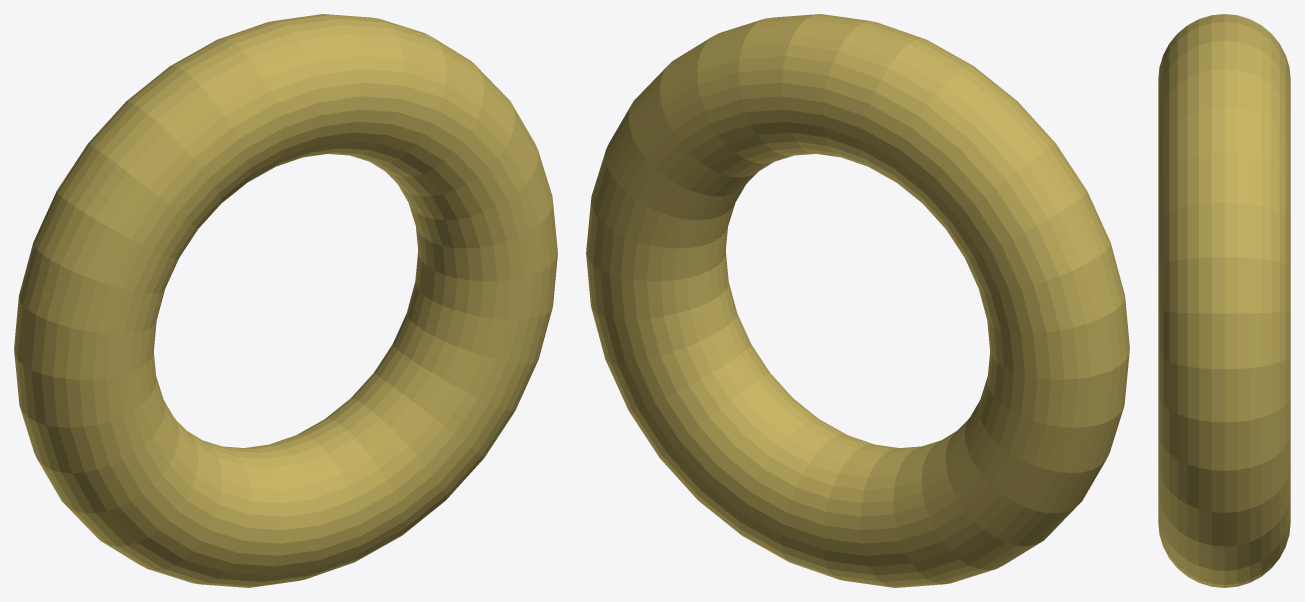
3 views of the same model, side by side, from view 1: azimuth 30°, elevation 25°; view 2: azimuth 150°, elevation 25°; view 3: azimuth 270°, elevation 25° (orthographic). The views are drawn at different scales.
Parts seen in each view (by area): view 1: world; view 2: world; view 3: world.
Boxes of the visible parts, x1,y1,x2,y2 form: world: (14, 14, 557, 587); world: (586, 14, 1129, 587); world: (1158, 14, 1290, 587).
Size of the model in its own units: 0.52 by 0.52 by 0.12.
